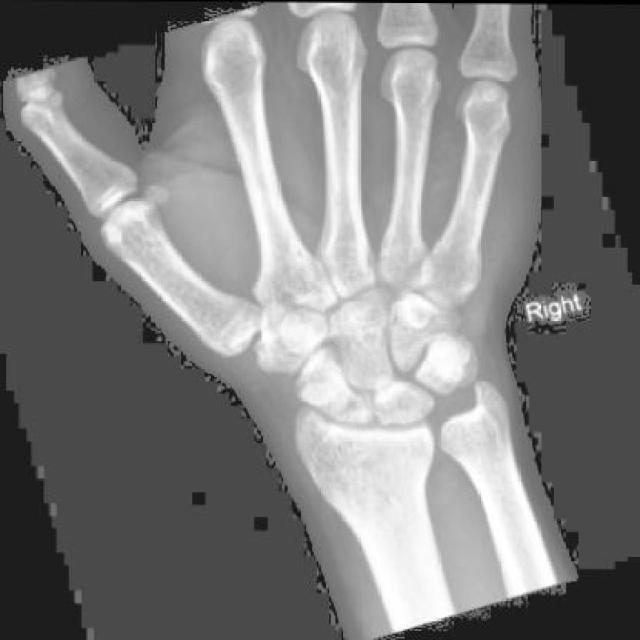Fracture: (296, 368, 379, 444)
